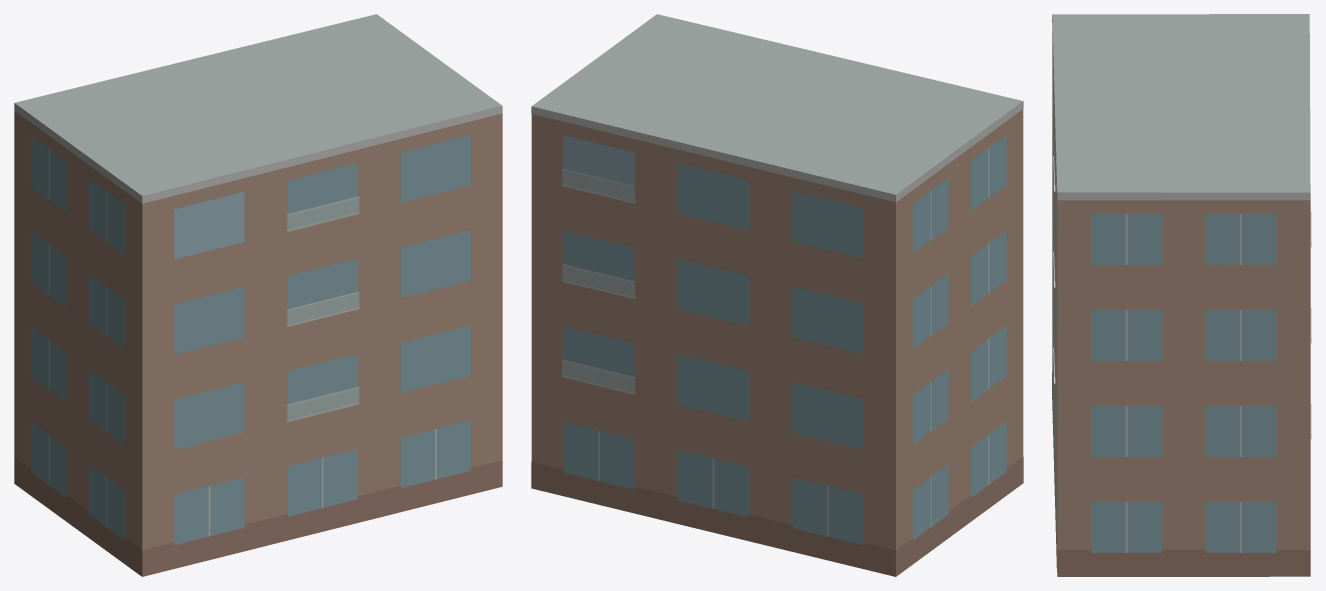
The model's file is survey-upis-32704604.glb.
3 renders of one model, left to right at view 1: azimuth 30°, elevation 25°; view 2: azimuth 150°, elevation 25°; view 3: azimuth 270°, elevation 25°, orthographic.
Parts seen in each view (by area): view 1: survey-upis-32704604.tmp; view 2: survey-upis-32704604.tmp; view 3: survey-upis-32704604.tmp.
Boxes of the visible parts, bbox=[...] form: survey-upis-32704604.tmp: bbox=[14, 14, 502, 576]; survey-upis-32704604.tmp: bbox=[531, 14, 1023, 576]; survey-upis-32704604.tmp: bbox=[1052, 14, 1311, 576].
Size of the model in its own units: 12.19 by 12.2 by 7.48.
